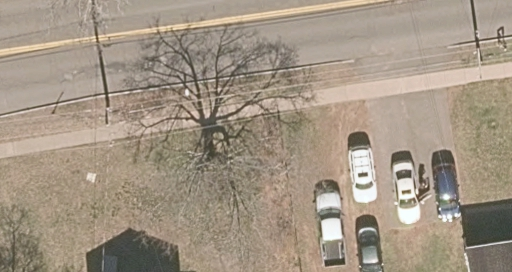DT: (448, 24, 508, 79), (89, 76, 130, 128)
